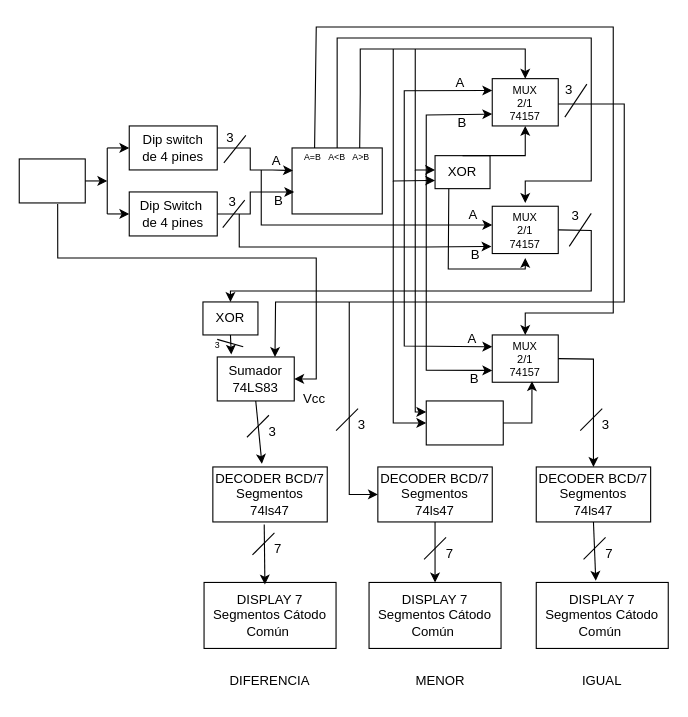
This 688x717 diagram has some shape labels left out. Each missing label, with the box of its shape:
Comparador 7485: (291, 147, 382, 214)
Fuente de voltaje 5V: (18, 158, 85, 203)
NOR: (425, 400, 503, 445)
